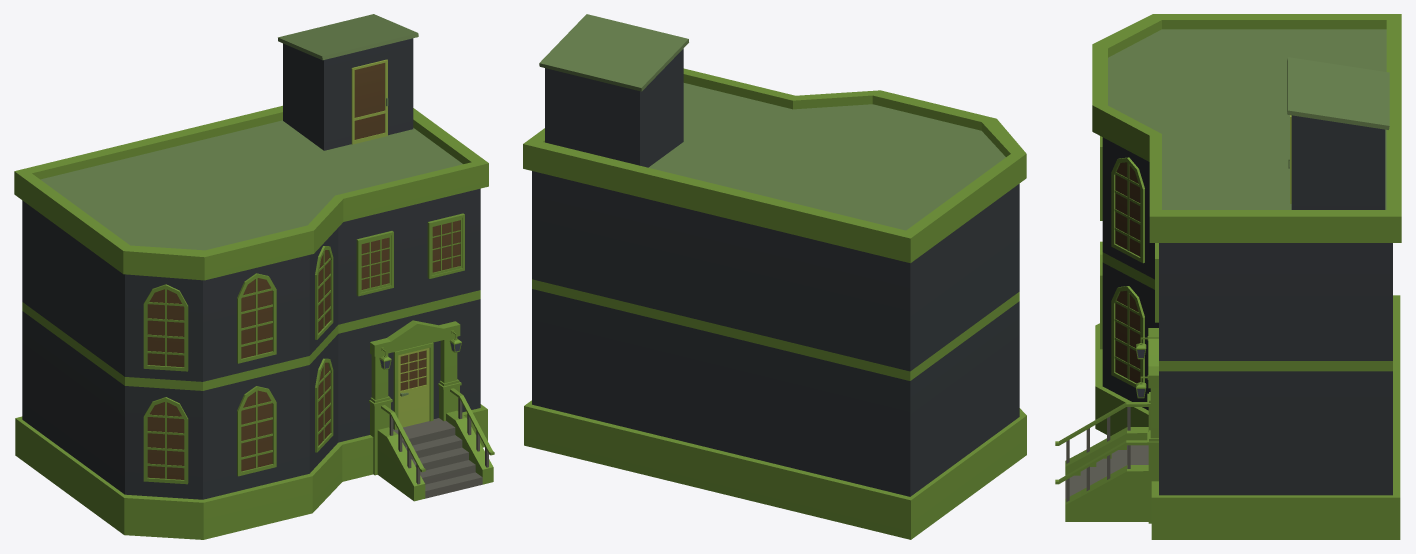
The model's file is House_18.fbx.
The picture shows the model from 3 angles, left to right: view 1: azimuth 30°, elevation 25°; view 2: azimuth 150°, elevation 25°; view 3: azimuth 270°, elevation 25°; orthographic projection. The views are drawn at different scales.
Parts seen in each view (by area): view 1: House_18; view 2: House_18; view 3: House_18.
Boxes of the visible parts, x1=… form: House_18: x1=14, y1=14, x2=494, y2=539; House_18: x1=523, y1=14, x2=1026, y2=539; House_18: x1=1055, y1=14, x2=1401, y2=539.
Bounding box in the file's own units: 10.24 × 9.99 × 7.4.
